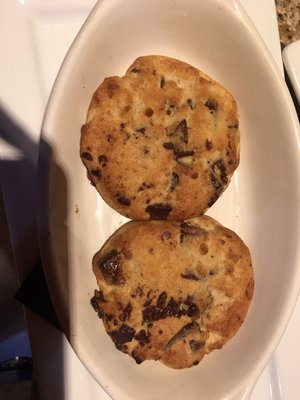salad: (90, 215, 254, 369)
sandwich: (79, 54, 240, 222)
